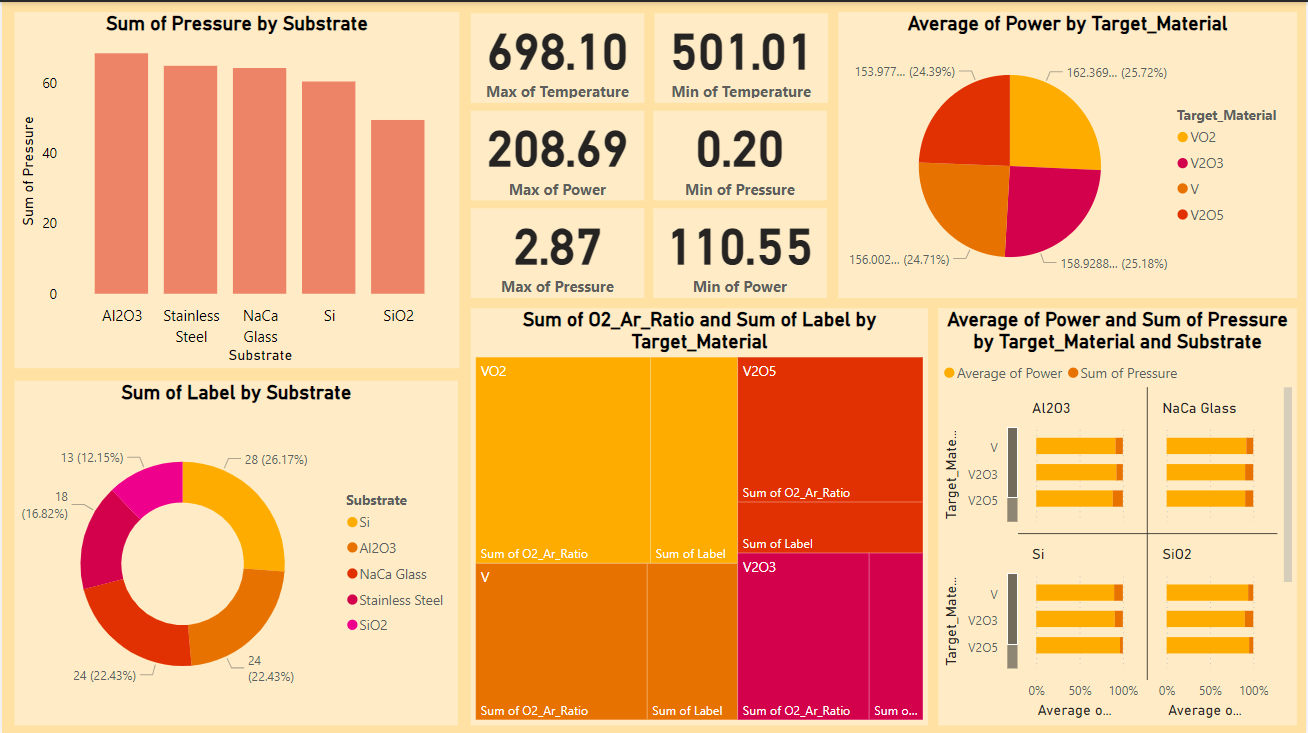

The dashboard page shown, as its layout file describes it:
{"tool":"powerbi","page":{"name":"Page 1","canvas":[1280,720],"ordinal":0},"visuals":[{"type":"clusteredColumnChart","fields":{"Y":["Sum(vo2_dataset.Pressure)"],"Category":["vo2_dataset.Substrate"]},"box":[12.4,10,436.6,349.6],"z":0},{"type":"donutChart","fields":{"Y":["Sum(vo2_dataset.Label)"],"Category":["vo2_dataset.Substrate"]},"box":[12.4,371.9,435.4,338.4],"z":1},{"type":"treemap","fields":{"Values":["Sum(vo2_dataset.O2_Ar_Ratio)","Sum(vo2_dataset.Label)"],"Group":["vo2_dataset.Target_Material"]},"box":[460.3,301,449.1,409.3],"z":2},{"type":"card","fields":{"Values":["Min(vo2_dataset.Temperature)"]},"box":[640.6,11.2,170.4,88.3],"z":3},{"type":"card","fields":{"Values":["Max(vo2_dataset.Power)"]},"box":[460.3,107,170.4,88.3],"z":4},{"type":"card","fields":{"Values":["Min(vo2_dataset.Power)"]},"box":[639.4,202.8,170.4,88.3],"z":5},{"type":"card","fields":{"Values":["Max(vo2_dataset.Pressure)"]},"box":[460.3,202.8,170.4,88.3],"z":6},{"type":"card","fields":{"Values":["Min(vo2_dataset.Pressure)"]},"box":[639.4,107,170.4,88.3],"z":7},{"type":"card","fields":{"Values":["Max(vo2_dataset.Temperature)"]},"box":[460.3,11.2,170.4,88.3],"z":8},{"type":"pieChart","fields":{"Y":["Avg(vo2_dataset.Power)"],"Category":["vo2_dataset.Target_Material"]},"box":[821,10,450.3,281.1],"z":9},{"type":"hundredPercentStackedBarChart","fields":{"Y":["Avg(vo2_dataset.Power)","Sum(vo2_dataset.Pressure)"],"Category":["vo2_dataset.Target_Material"],"Rows":["vo2_dataset.Substrate"]},"box":[919.3,301,352,409.3],"z":10}]}

Visuals, with their boxes in screenshot pixels (x1, y1, x2, y2), scaled from the page's 1280x720 canvas onto the 1308x733 screenshot:
clusteredColumnChart - Sum(vo2_dataset.Pressure) x vo2_dataset.Substrate: x1=13 y1=10 x2=459 y2=366
donutChart - Sum(vo2_dataset.Label) x vo2_dataset.Substrate: x1=13 y1=379 x2=458 y2=723
treemap - Sum(vo2_dataset.O2_Ar_Ratio) x Sum(vo2_dataset.Label): x1=470 y1=306 x2=929 y2=723
card - Min(vo2_dataset.Temperature): x1=655 y1=11 x2=829 y2=101
card - Max(vo2_dataset.Power): x1=470 y1=109 x2=644 y2=199
card - Min(vo2_dataset.Power): x1=653 y1=206 x2=828 y2=296
card - Max(vo2_dataset.Pressure): x1=470 y1=206 x2=644 y2=296
card - Min(vo2_dataset.Pressure): x1=653 y1=109 x2=828 y2=199
card - Max(vo2_dataset.Temperature): x1=470 y1=11 x2=644 y2=101
pieChart - Avg(vo2_dataset.Power) x vo2_dataset.Target_Material: x1=839 y1=10 x2=1299 y2=296
hundredPercentStackedBarChart - Avg(vo2_dataset.Power) x Sum(vo2_dataset.Pressure): x1=939 y1=306 x2=1299 y2=723
